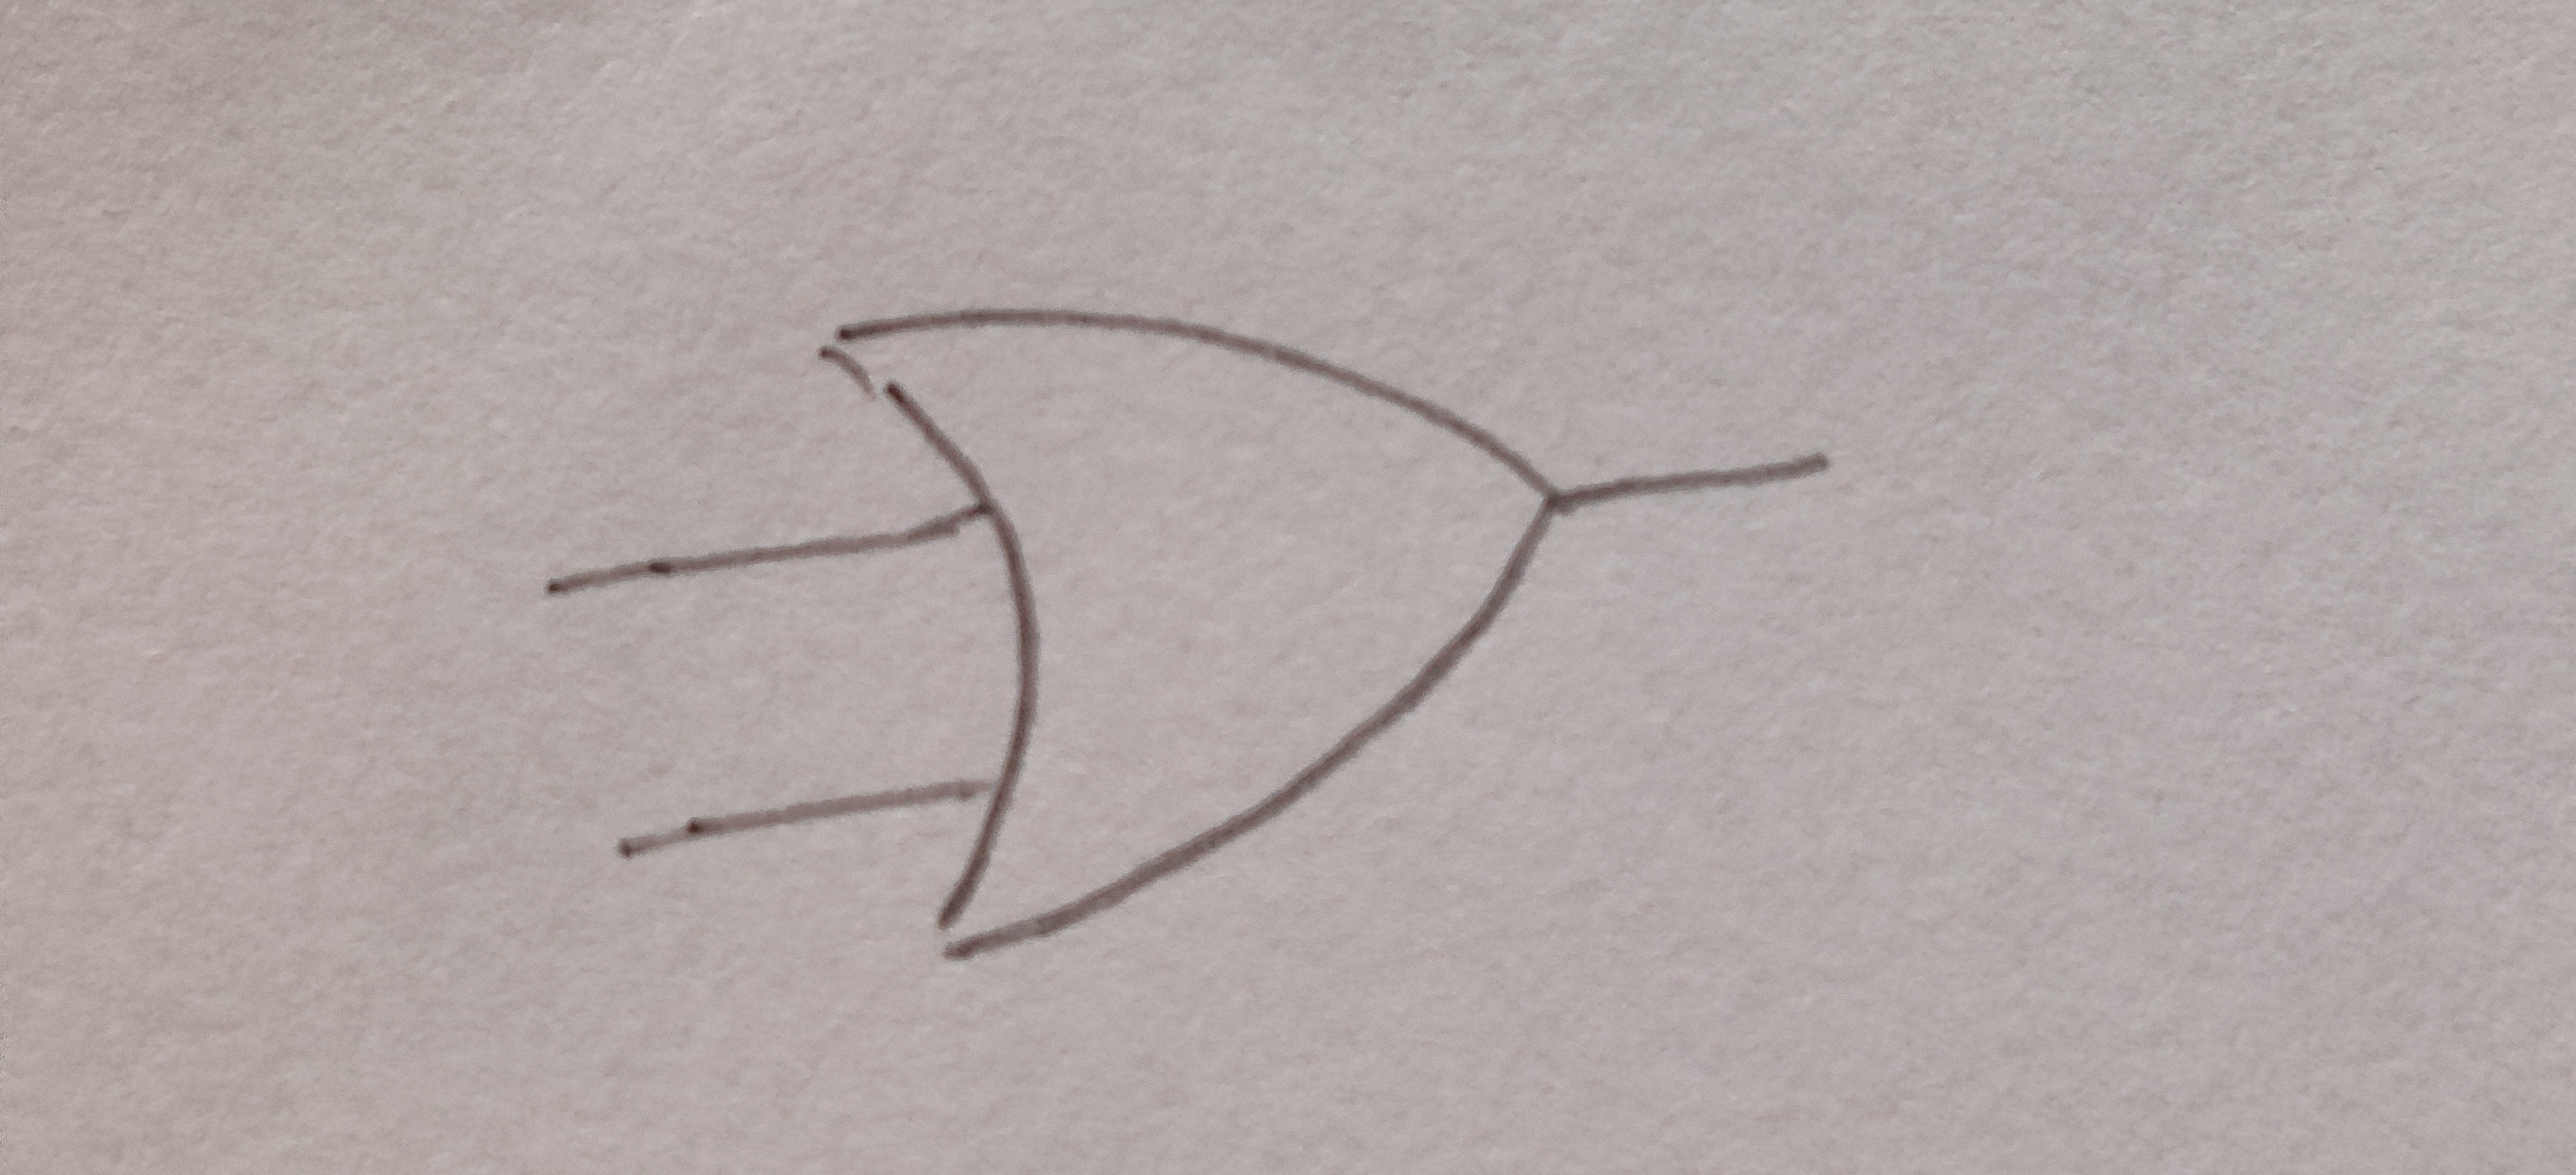or: (826, 312, 1556, 953)
